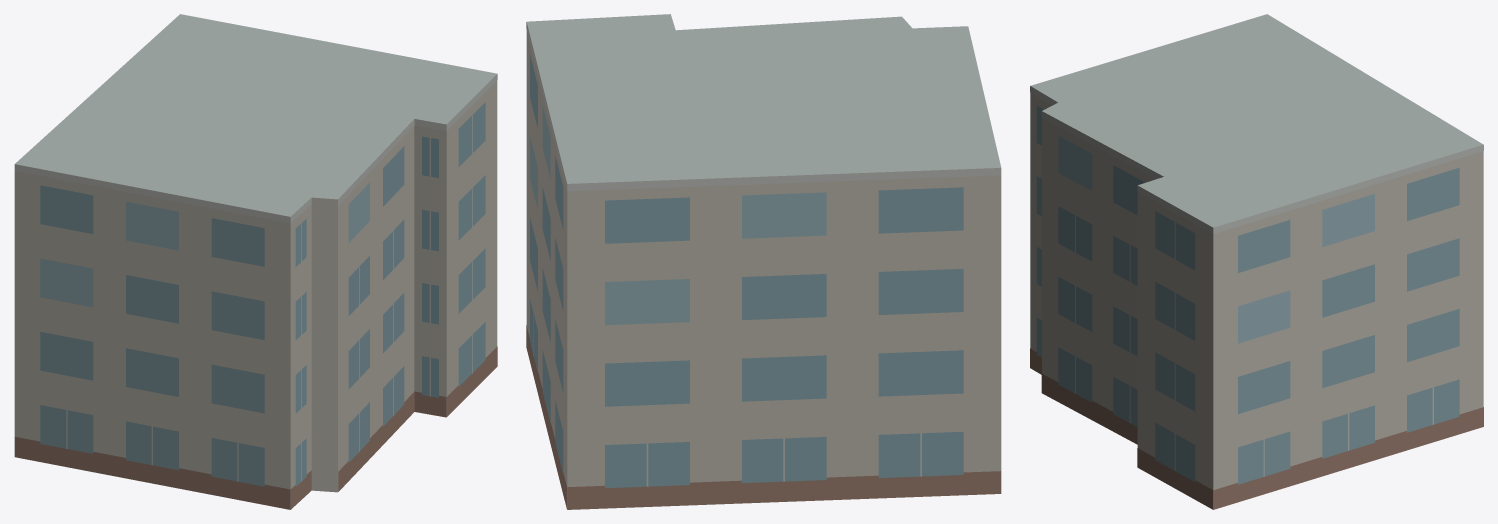
Rendered from survey-upis-32605858.glb.
3 views of the same model, side by side, from view 1: azimuth 30°, elevation 25°; view 2: azimuth 150°, elevation 25°; view 3: azimuth 270°, elevation 25° (orthographic). The views are drawn at different scales.
Visible parts, largest first — view 1: survey-upis-32605858.tmp; view 2: survey-upis-32605858.tmp; view 3: survey-upis-32605858.tmp.
Part boxes in pixels (box(x1,y1,x2,y2)): survey-upis-32605858.tmp: box(14, 14, 497, 509); survey-upis-32605858.tmp: box(526, 14, 1001, 509); survey-upis-32605858.tmp: box(1030, 14, 1483, 509).
Size of the model in its own units: 17.39 by 10.7 by 15.59.
